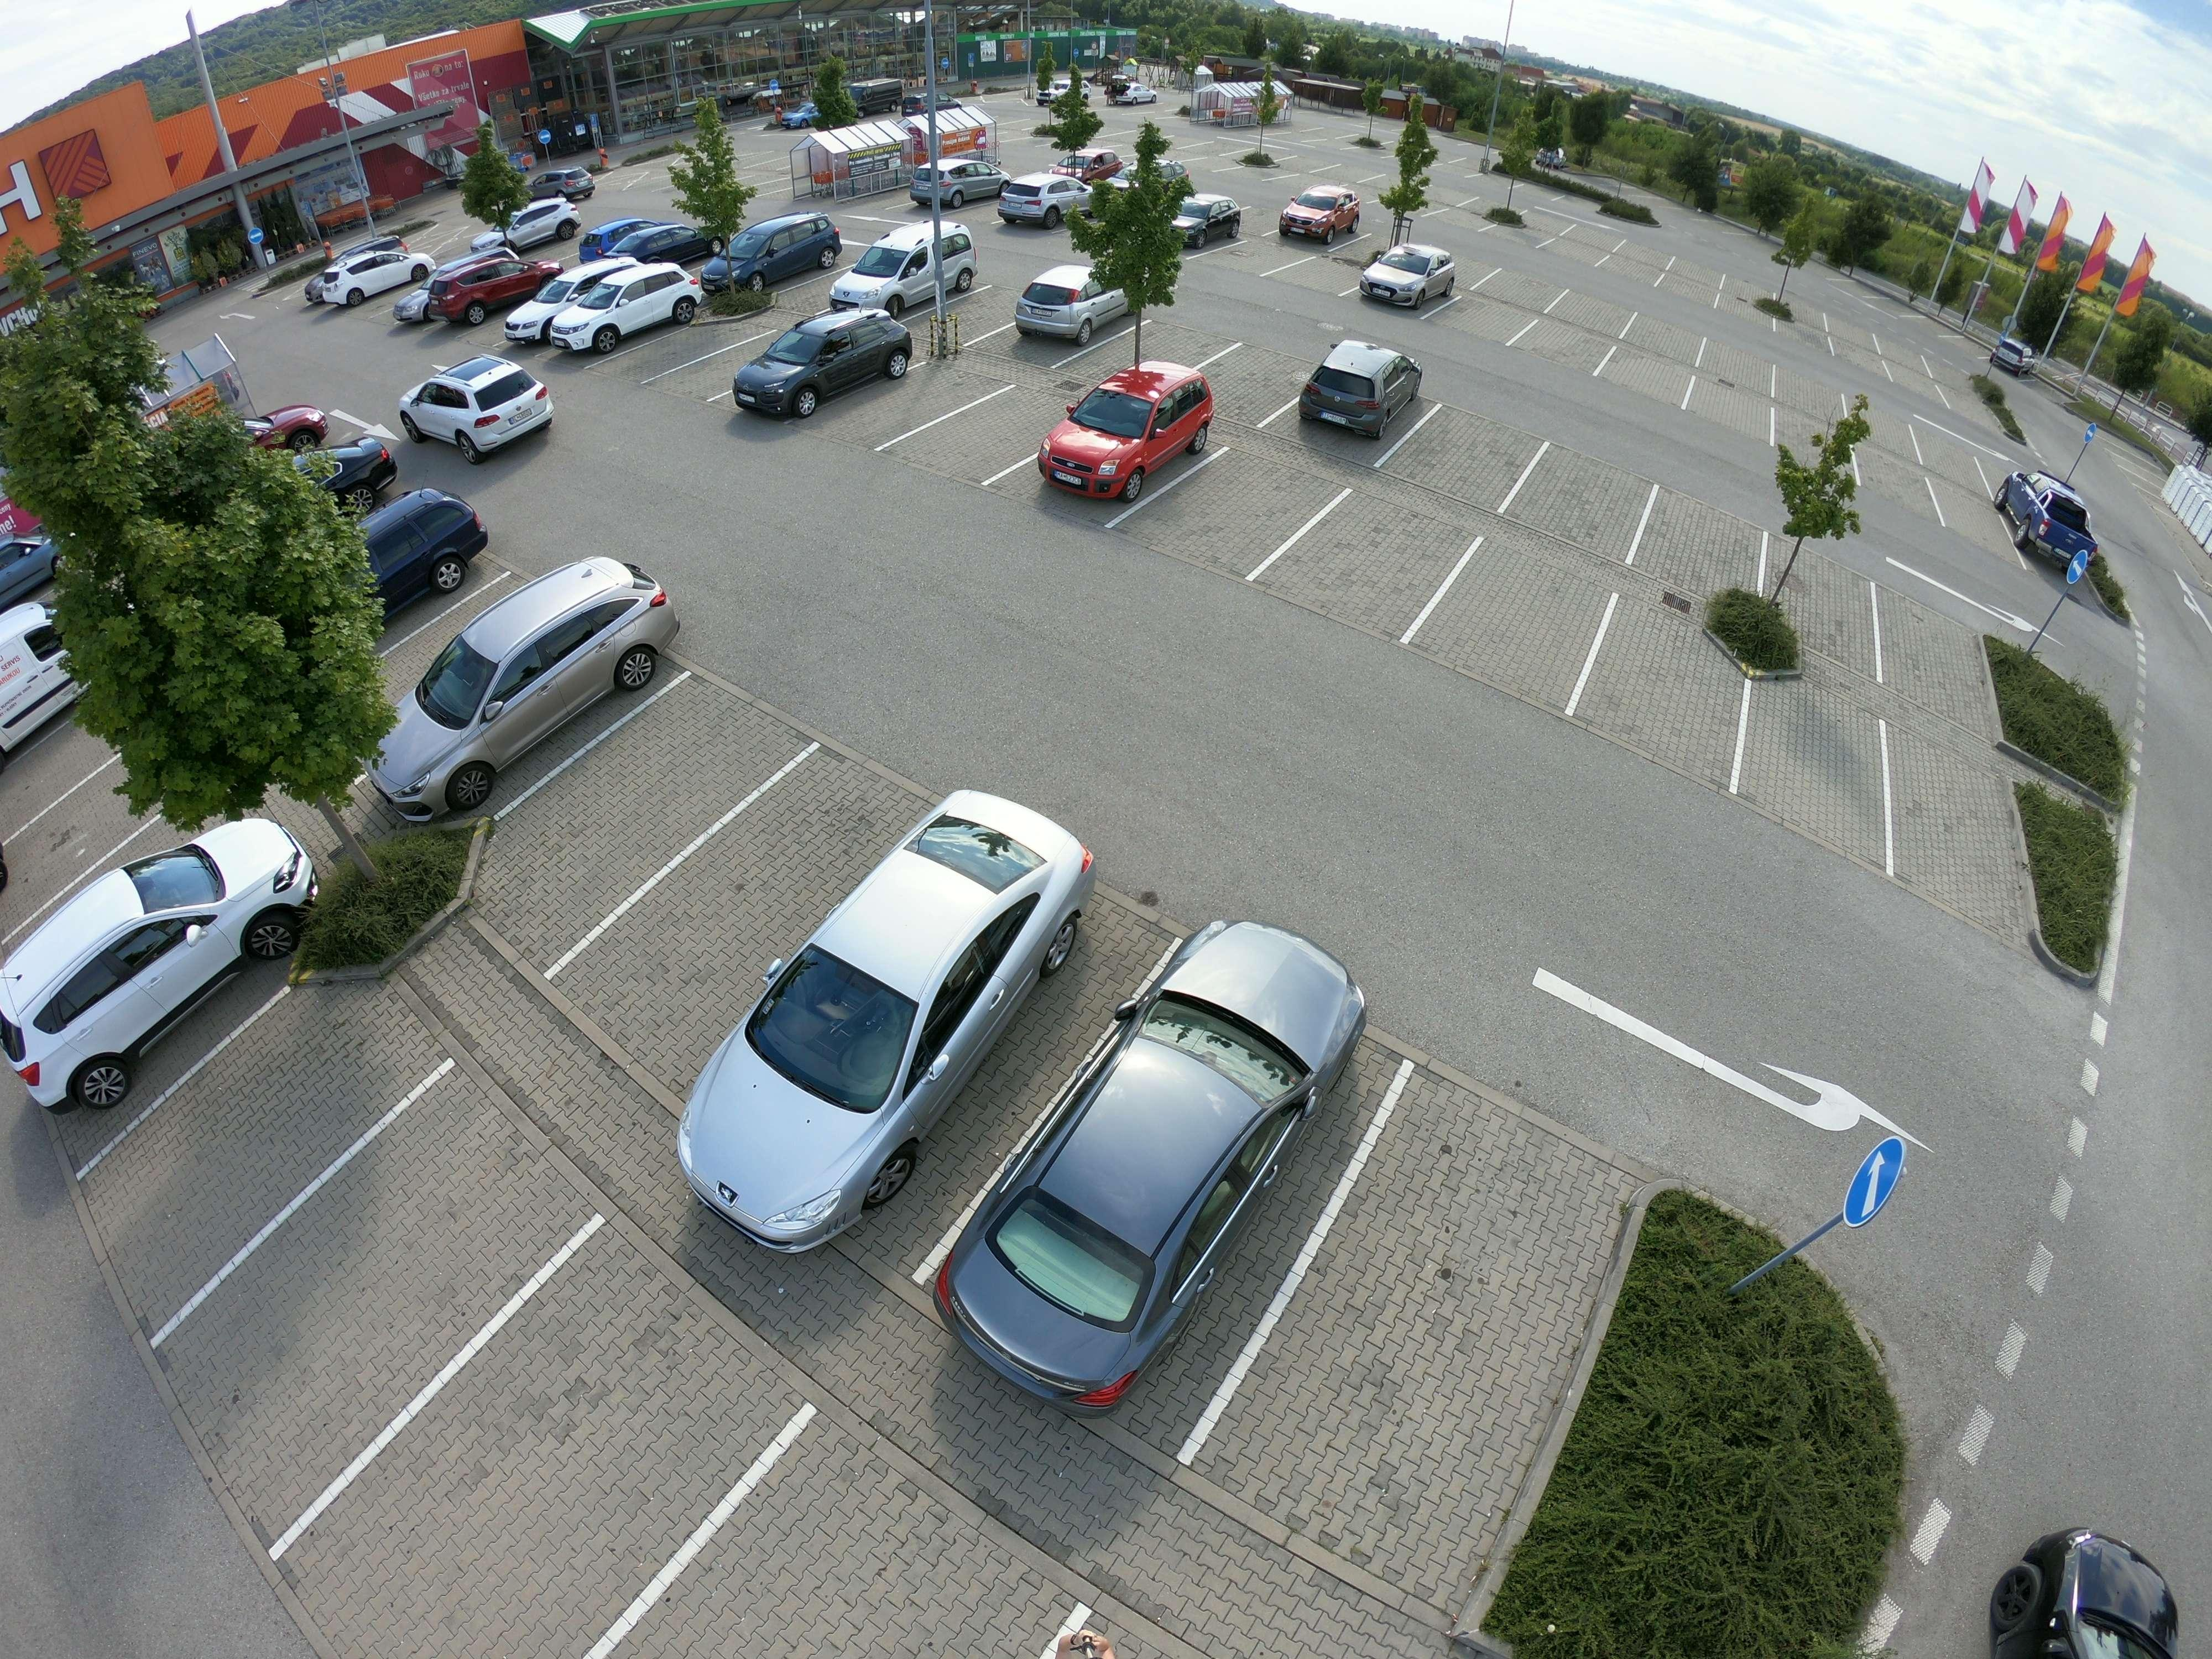empty: (667, 791, 1099, 1241), (946, 924, 1341, 1408), (0, 833, 286, 1107), (362, 558, 667, 803), (1028, 362, 1223, 502), (2017, 1525, 2191, 1656), (730, 314, 921, 418), (361, 500, 495, 617), (536, 265, 704, 357), (1291, 338, 1428, 450), (413, 249, 561, 335), (1993, 471, 2104, 580), (707, 214, 843, 301), (1007, 263, 1130, 350), (843, 228, 968, 312), (1357, 239, 1465, 310), (566, 213, 686, 263), (1277, 185, 1364, 247), (989, 173, 1078, 228), (1167, 192, 1247, 249)
occupied: (1291, 1209, 1575, 1446), (435, 1394, 681, 1561), (709, 1551, 984, 1659), (275, 1206, 479, 1337), (690, 842, 845, 938), (197, 1060, 343, 1157), (564, 763, 704, 854), (1602, 660, 1735, 748), (1902, 798, 2024, 892), (1750, 720, 1876, 810), (1454, 591, 1580, 666), (1874, 615, 1984, 699), (1766, 561, 1869, 636), (1315, 535, 1426, 599), (17, 821, 113, 894), (1521, 479, 1623, 538), (1653, 526, 1750, 587), (1129, 305, 1216, 371), (1202, 479, 1296, 537), (841, 387, 935, 443), (1413, 432, 1500, 484), (1785, 406, 1865, 462), (1864, 453, 1925, 512), (1700, 382, 1773, 430), (1939, 491, 1996, 551), (975, 408, 1049, 451), (1223, 354, 1296, 397), (1559, 291, 1623, 340), (1616, 349, 1683, 396), (711, 343, 766, 396), (1531, 329, 1599, 369), (644, 331, 712, 369), (1496, 265, 1545, 317), (1658, 268, 1709, 315), (949, 295, 1008, 335), (1444, 310, 1507, 345), (1292, 260, 1353, 289)
